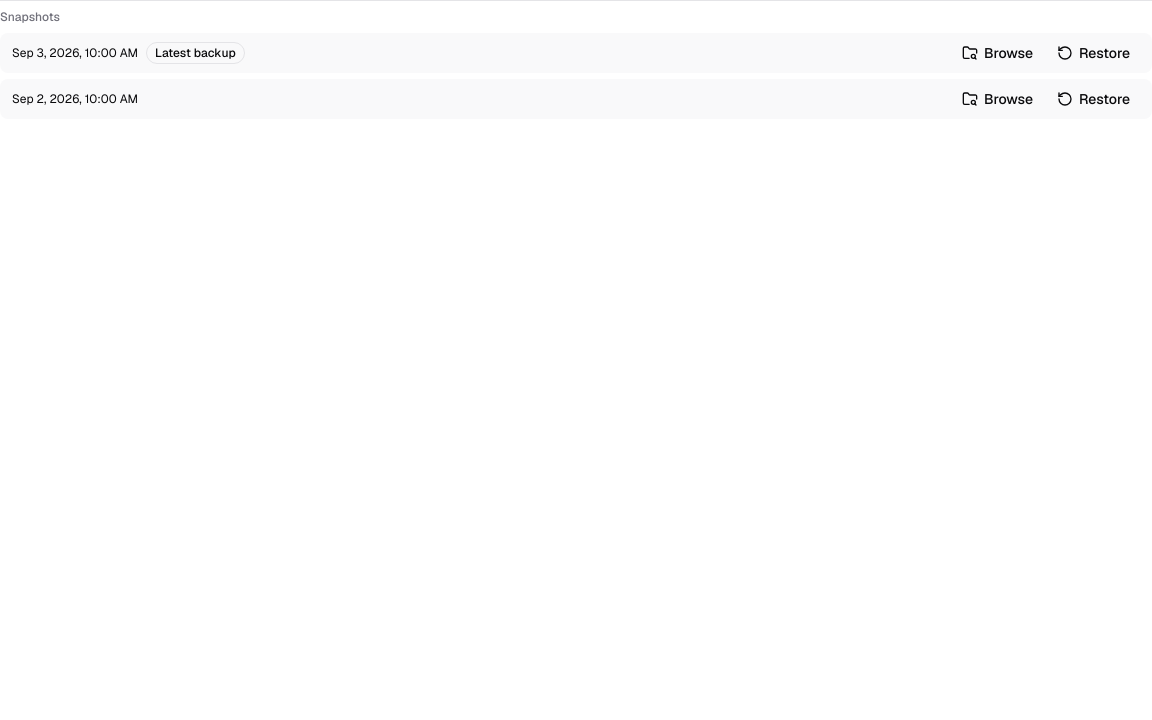
Scenario: BackupHistory labels the restore points honestly › marks the latest backup and restores it
What coordinates should you click on to do the following:
click the button "Restore" in the row of "Latest backup"
I would click on:
 (1094, 53)
Its box is [1047, 41, 1140, 65].
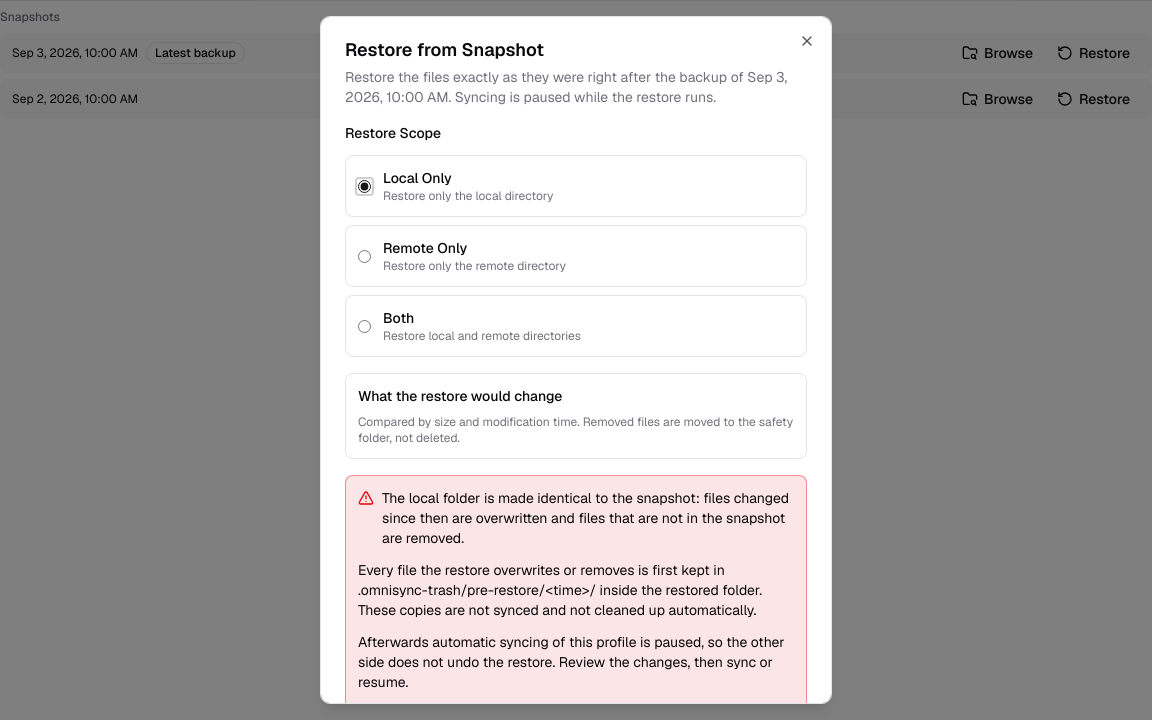
Check: the dialog shows "exactly as they were right after the backup of", box [345, 68, 787, 106]
